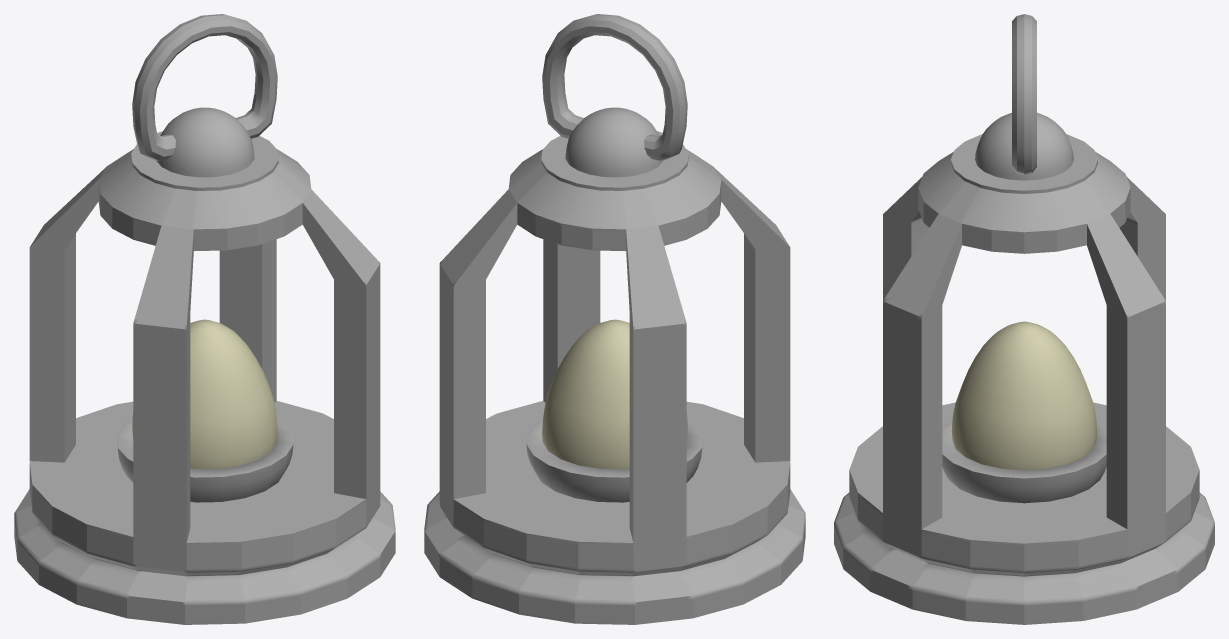
The model's file is sm_lantern.fbx.
The picture shows the model from 3 angles, left to right: view 1: azimuth 30°, elevation 25°; view 2: azimuth 150°, elevation 25°; view 3: azimuth 270°, elevation 25°; orthographic projection.
Parts seen in each view (by area): view 1: pCylinder3, pSphere4, pTorus1, pSphere3, pSphere5; view 2: pCylinder3, pSphere4, pTorus1, pSphere3, pSphere5; view 3: pCylinder3, pSphere4, pSphere5, pTorus1, pSphere3.
Boxes of the visible parts, <box> form: pCylinder3: <box>14,131,395,624</box>; pSphere4: <box>132,319,277,469</box>; pTorus1: <box>132,14,277,160</box>; pSphere3: <box>156,107,254,177</box>; pSphere5: <box>116,419,293,502</box>; pCylinder3: <box>424,131,805,624</box>; pSphere4: <box>542,319,687,469</box>; pTorus1: <box>542,14,687,160</box>; pSphere3: <box>565,107,663,177</box>; pSphere5: <box>526,419,703,502</box>; pCylinder3: <box>834,134,1214,624</box>; pSphere4: <box>951,321,1097,470</box>; pSphere5: <box>942,419,1106,503</box>; pTorus1: <box>1012,14,1036,175</box>; pSphere3: <box>975,113,1073,180</box>.
Size of the model in its own units: 5.24 by 7.94 by 5.24.
